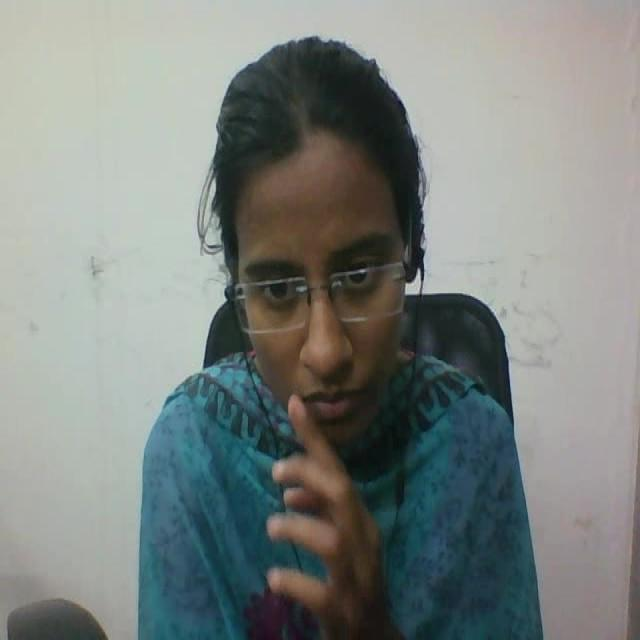Engaged: (170, 19, 451, 464)
